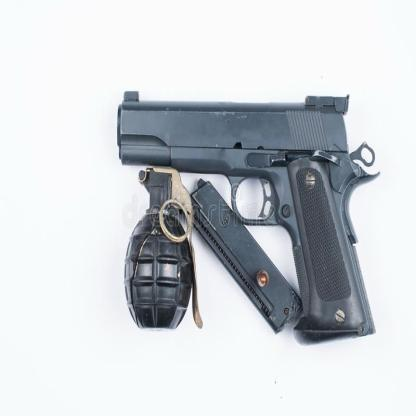Grenade: (124, 167, 204, 330)
Pistol: (116, 89, 381, 348)
